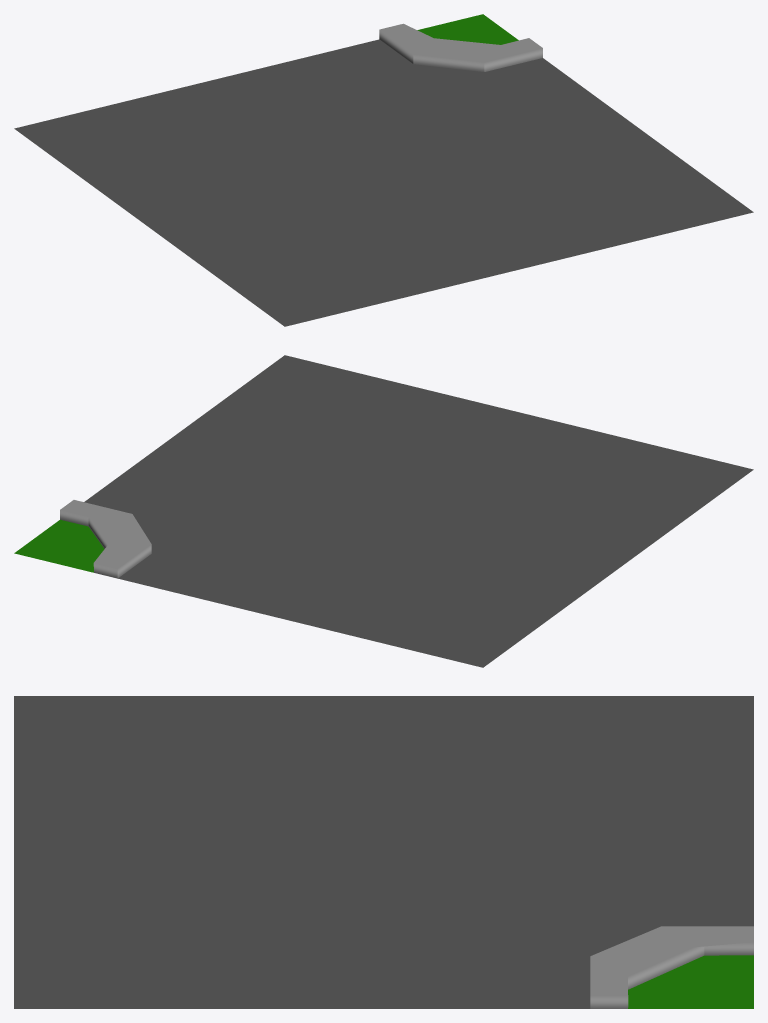
File: ground_pathCornerSmall.fbx
The picture shows the model from 3 angles, top to bottom: view 1: azimuth 30°, elevation 25°; view 2: azimuth 150°, elevation 25°; view 3: azimuth 270°, elevation 25°; orthographic projection. The views are drawn at different scales.
Parts seen in each view (by area): view 1: ground_pathCornerSmall; view 2: ground_pathCornerSmall; view 3: ground_pathCornerSmall.
Boxes of the visible parts, bbox=[...] form: ground_pathCornerSmall: bbox=[14, 14, 753, 326]; ground_pathCornerSmall: bbox=[14, 355, 753, 667]; ground_pathCornerSmall: bbox=[14, 696, 753, 1008].
Bounding box in the file's own units: 100 × 2.02 × 100.
